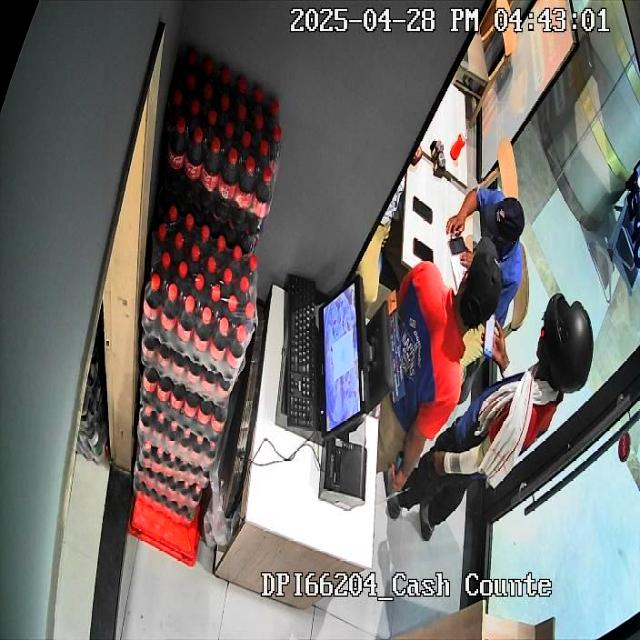helmet: (534, 293, 595, 390)
